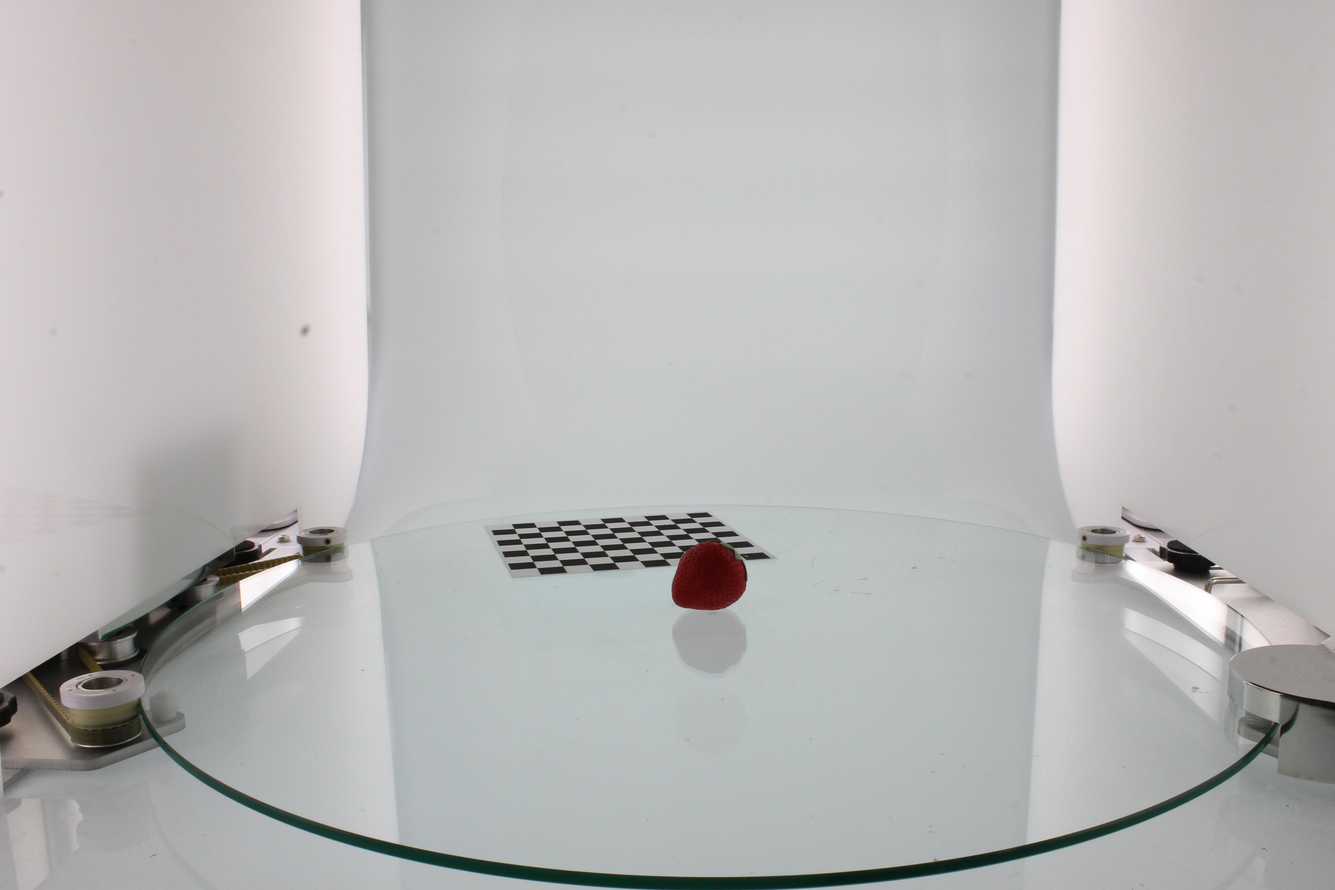strawberry: (672, 540, 747, 610)
